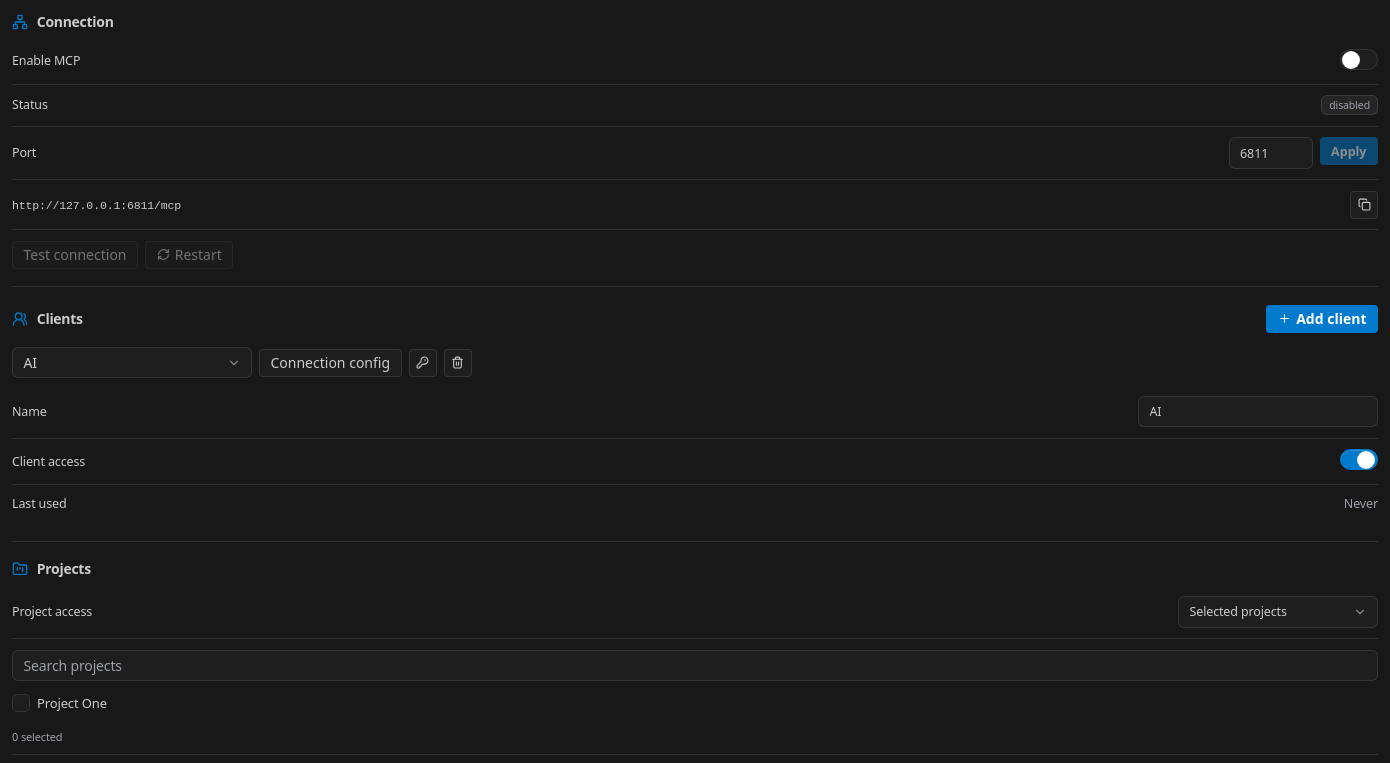
Test case: MCP settings › saves project allowlists with expected revision and waits for backend confirmation
The width and height of the screenshot is (1390, 763).
Expected: the heading "Connection" is shown, [37,12,114,32]
Click the checkbox named "Project One".
click(21, 703)  # box [12,694,30,712]
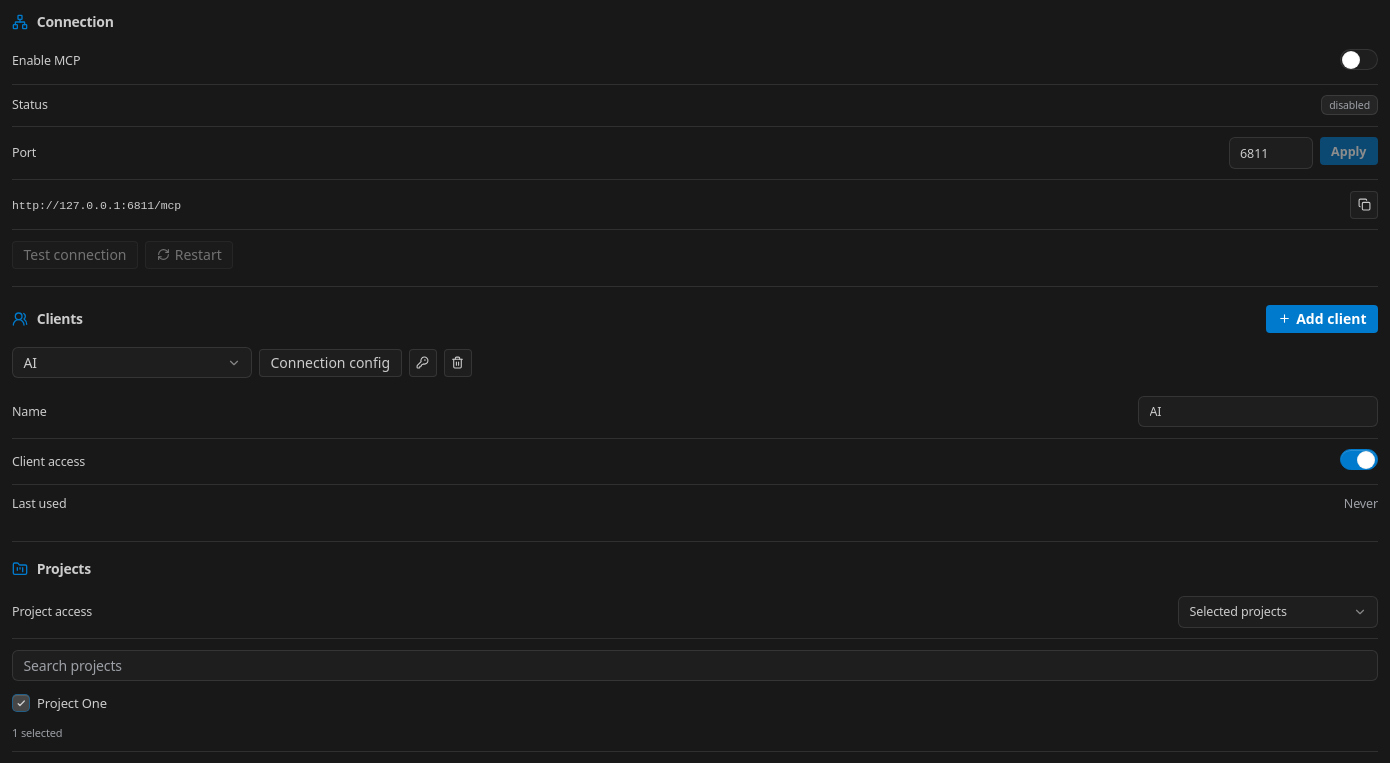
Result: the text "1 selected" is shown at [12,726,62,740]
